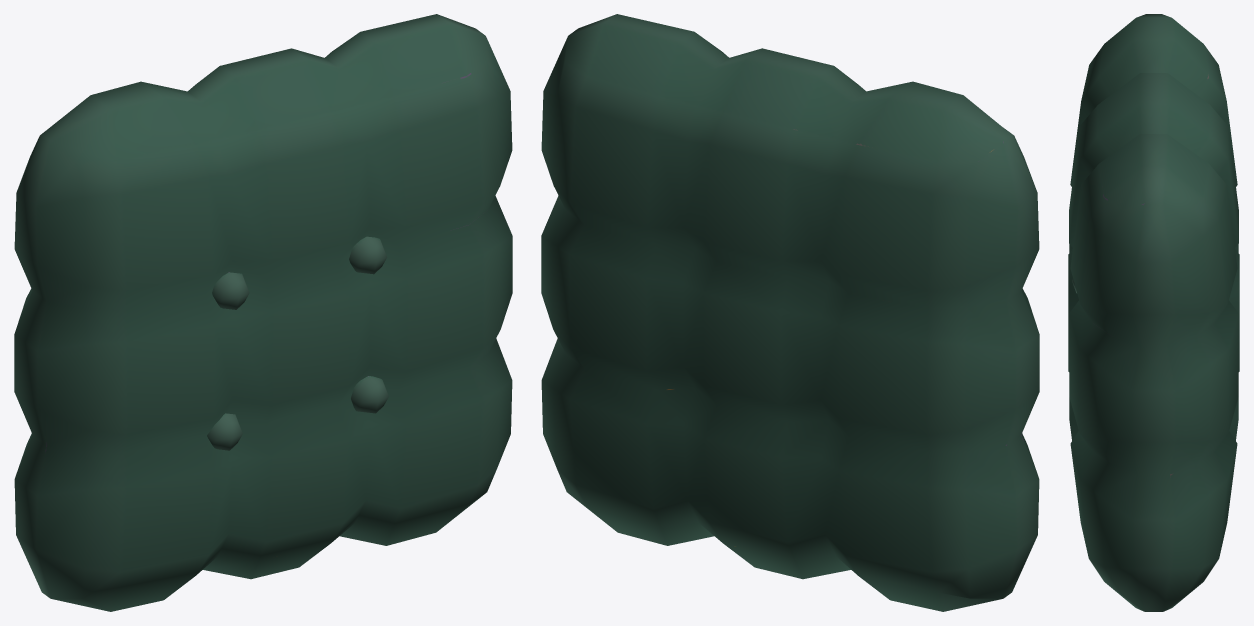
The model's file is triplo.fbx.
The picture shows the model from 3 angles, left to right: view 1: azimuth 30°, elevation 25°; view 2: azimuth 150°, elevation 25°; view 3: azimuth 270°, elevation 25°; orthographic projection. The views are drawn at different scales.
Visible parts, largest first — view 1: pCube13; view 2: pCube13; view 3: pCube13.
Boxes of the visible parts, x1,y1,x2,y2 form: pCube13: [14, 14, 512, 611]; pCube13: [541, 14, 1039, 611]; pCube13: [1068, 14, 1239, 611].
Size of the model in its own units: 633 by 640 by 221.
Materials: 1 (1 with a texture image).
